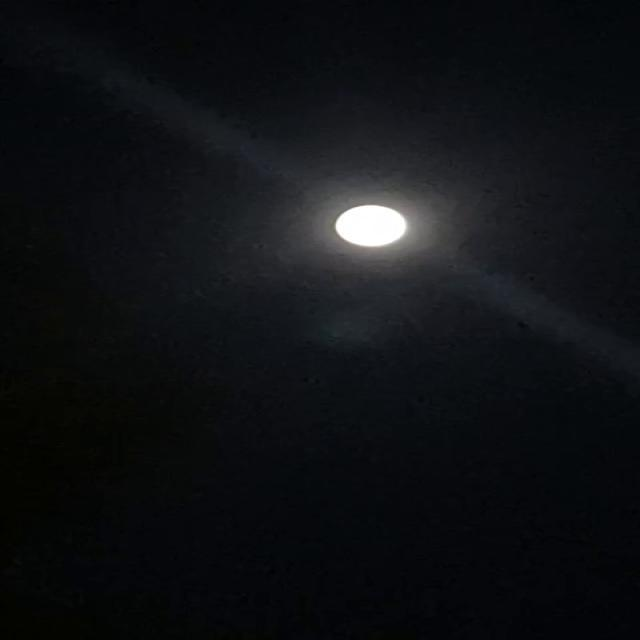moon: (312, 200, 428, 258)
